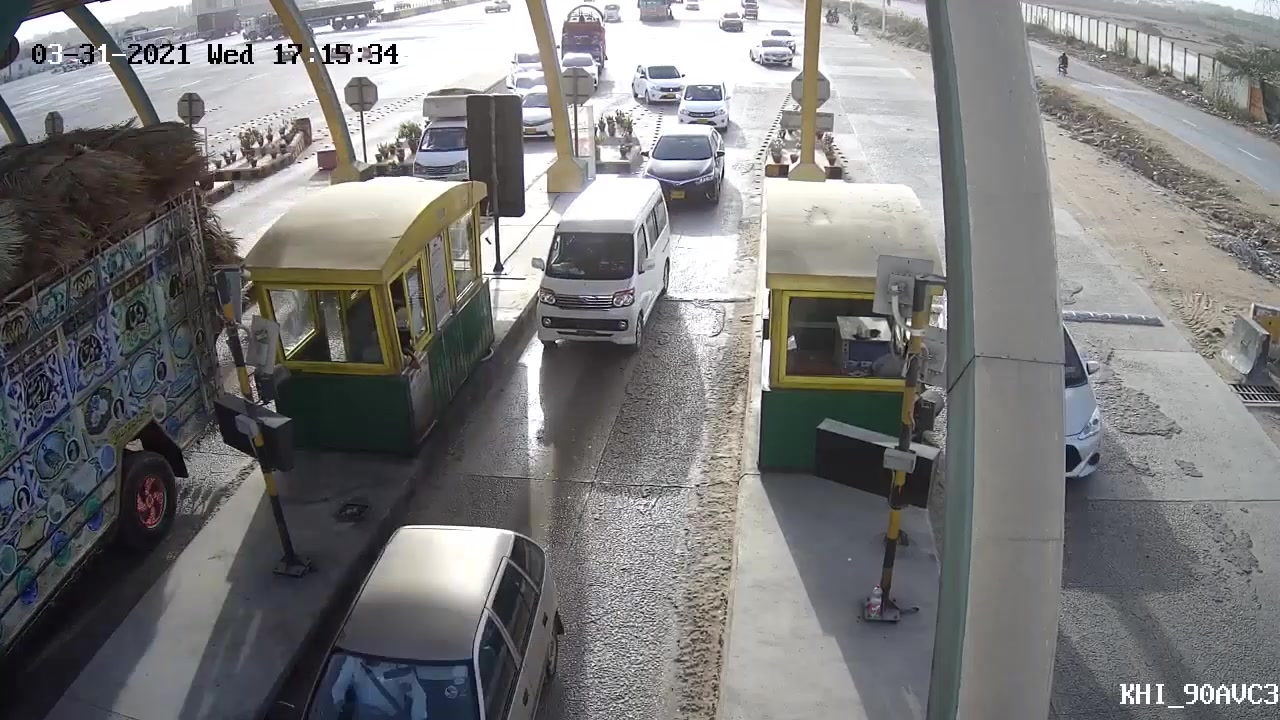F1: (516, 179, 670, 360), (638, 120, 731, 215)
